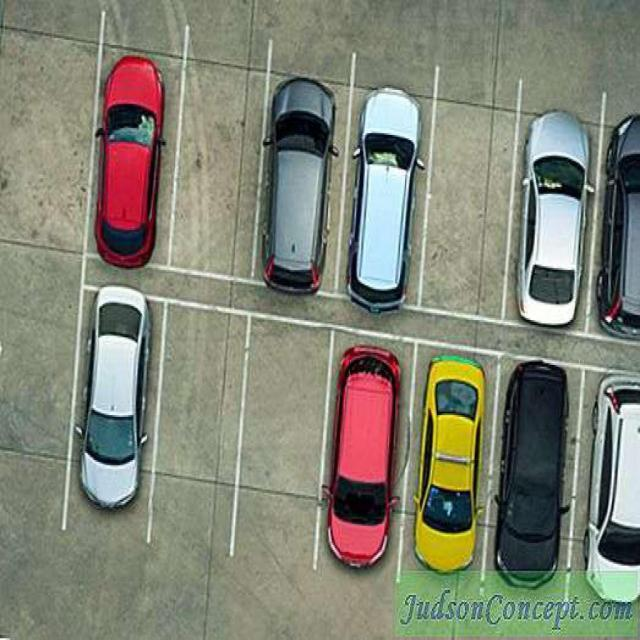car: (75, 36, 182, 272), (62, 282, 154, 536), (343, 84, 439, 318), (503, 100, 605, 320), (484, 360, 584, 584), (248, 64, 348, 280), (404, 344, 492, 574), (326, 325, 402, 569), (581, 367, 639, 597), (588, 109, 638, 338)
free: (149, 316, 246, 550), (415, 94, 517, 316), (231, 328, 328, 556), (166, 64, 261, 260)
